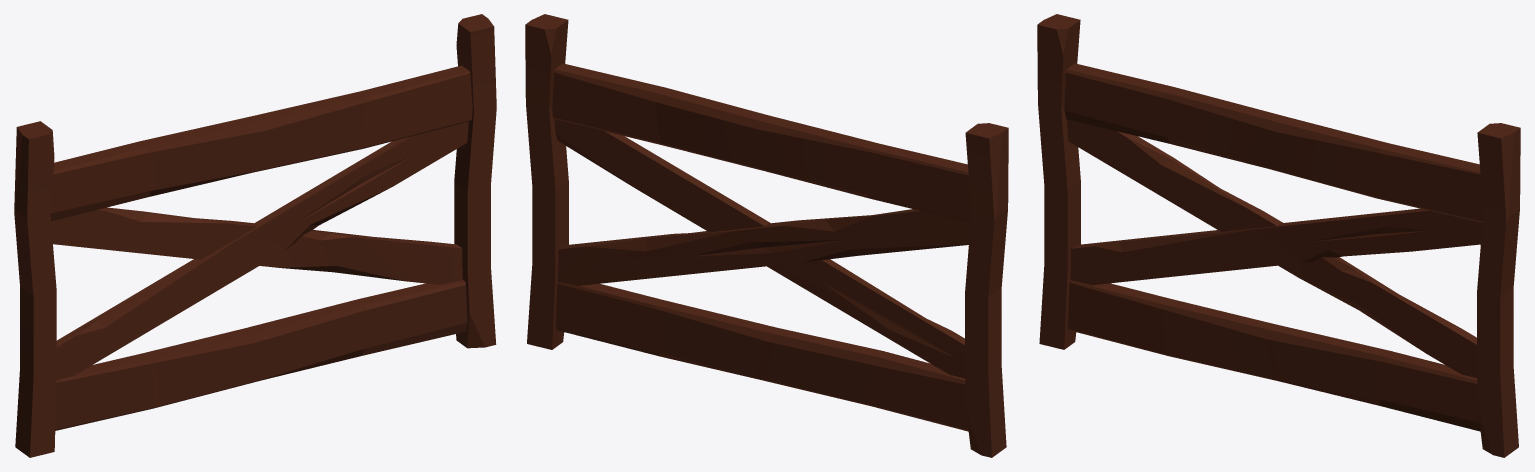
Rendered from Fence_1_4.fbx.
3 views of the same model, side by side, from view 1: azimuth 30°, elevation 25°; view 2: azimuth 150°, elevation 25°; view 3: azimuth 330°, elevation 25° (orthographic).
Visible parts, largest first — view 1: Fence_1_4; view 2: Fence_1_4; view 3: Fence_1_4.
Part boxes in pixels (x1,y1,x2,y2): Fence_1_4: [14, 14, 496, 457]; Fence_1_4: [525, 14, 1008, 457]; Fence_1_4: [1037, 14, 1520, 457].
Size of the model in its own units: 62 by 40.31 by 3.77.
